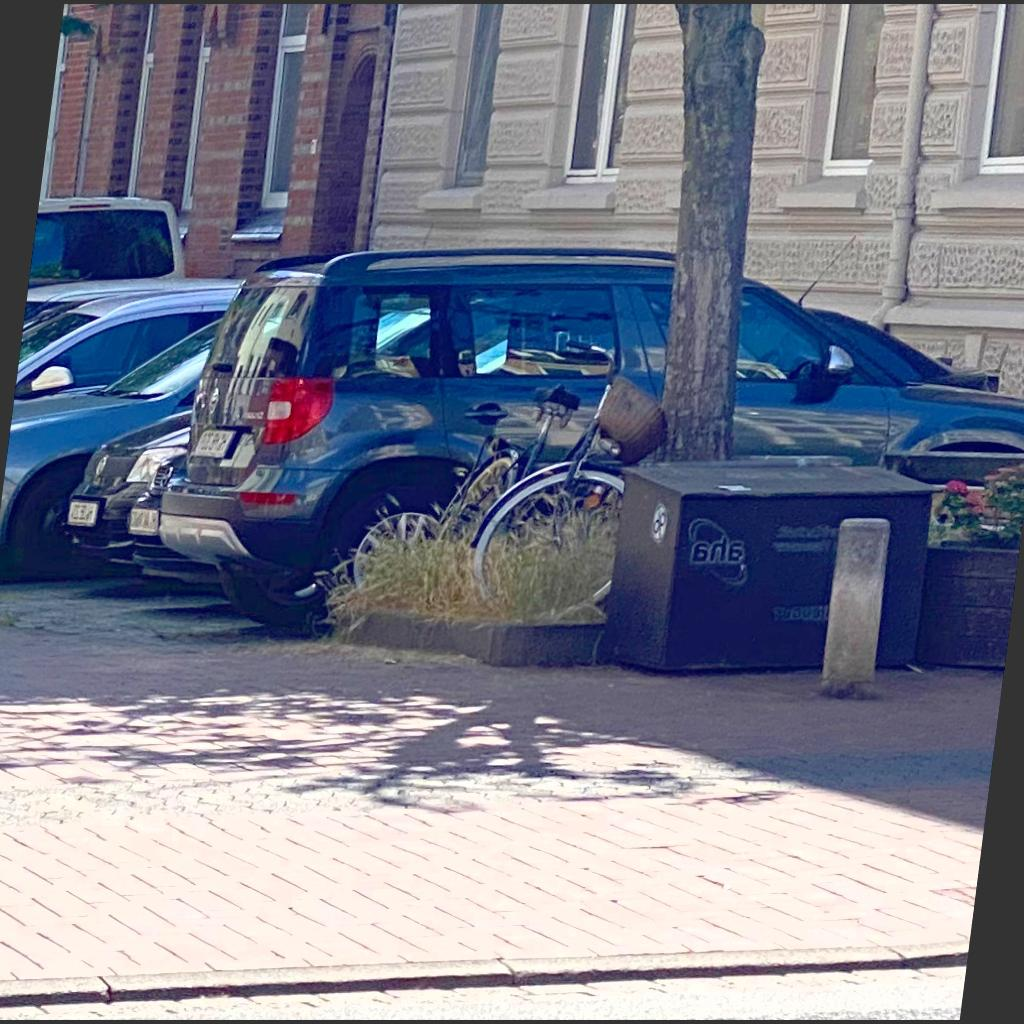tree: (653, 4, 767, 463)
